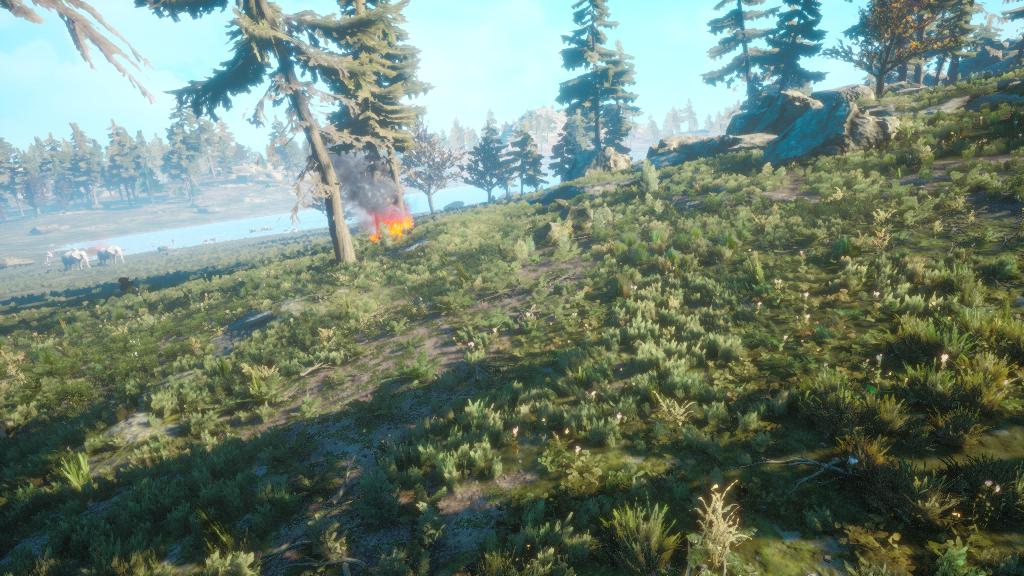Fire: (351, 177, 421, 254), (61, 248, 92, 274)
